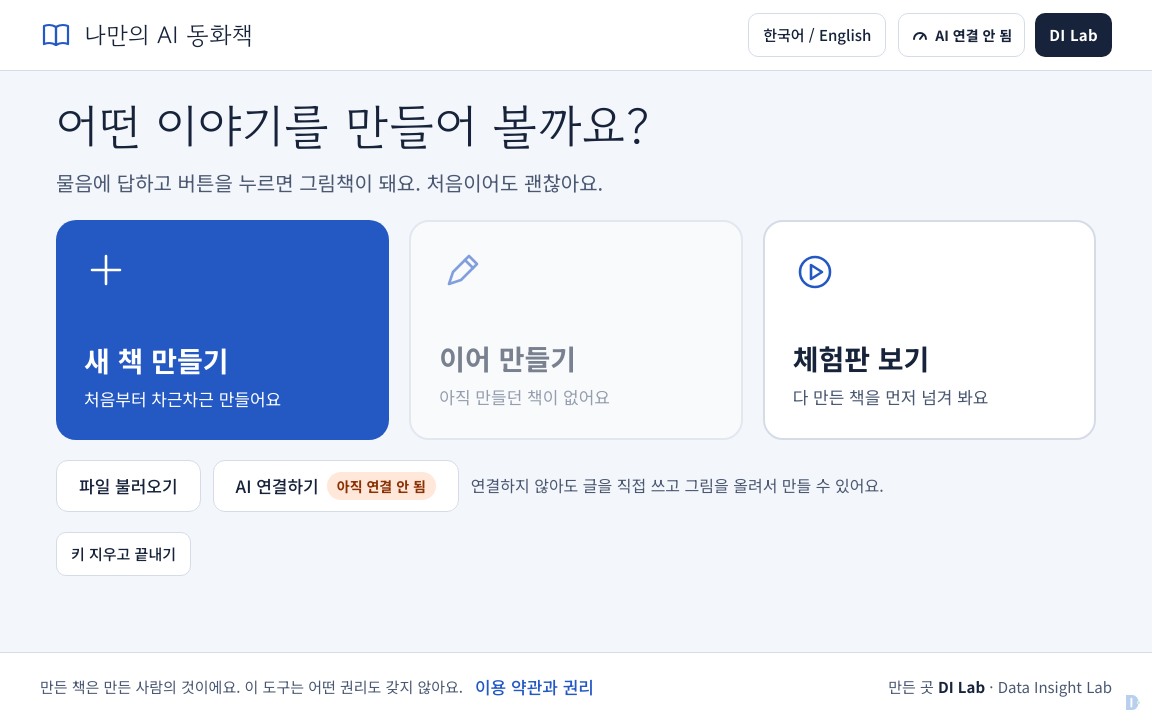
Test: StartScreen › language button switches to English
Click the button with aria-label "언어 바꾸기 (지금: 한국어)".
click(817, 35)  # box x1=748 y1=13 x2=886 y2=57
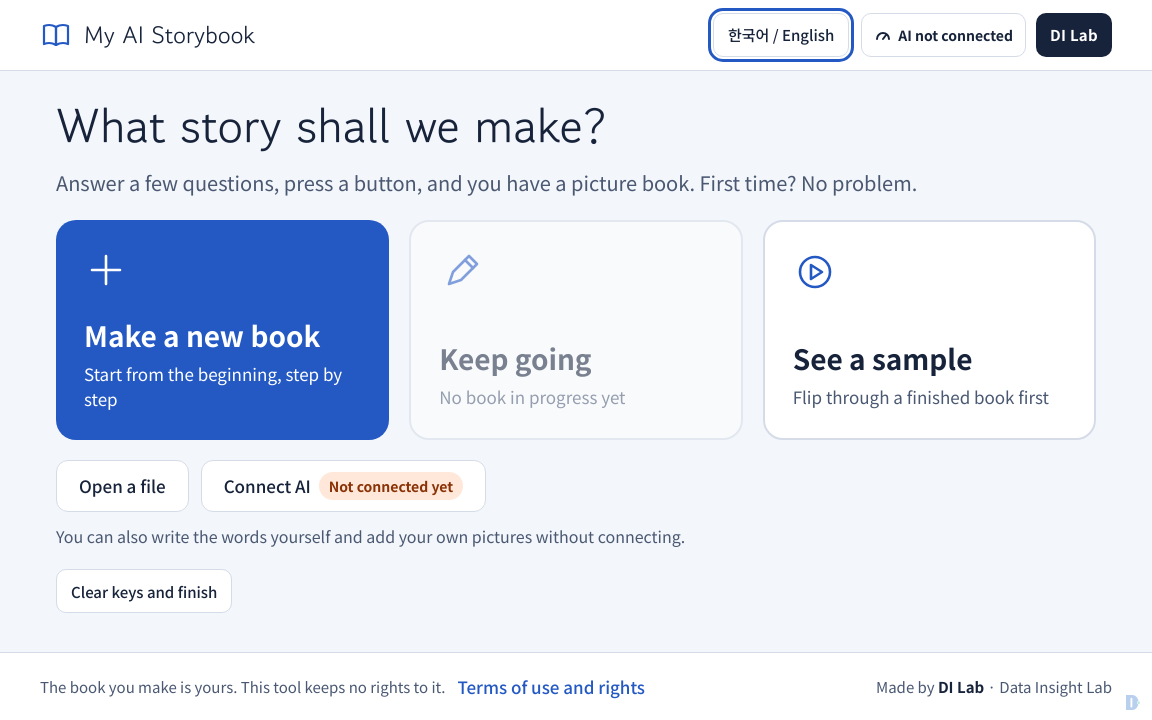
Now the heading "What story shall we make?" is shown, box x1=56 y1=90 x2=607 y2=160
